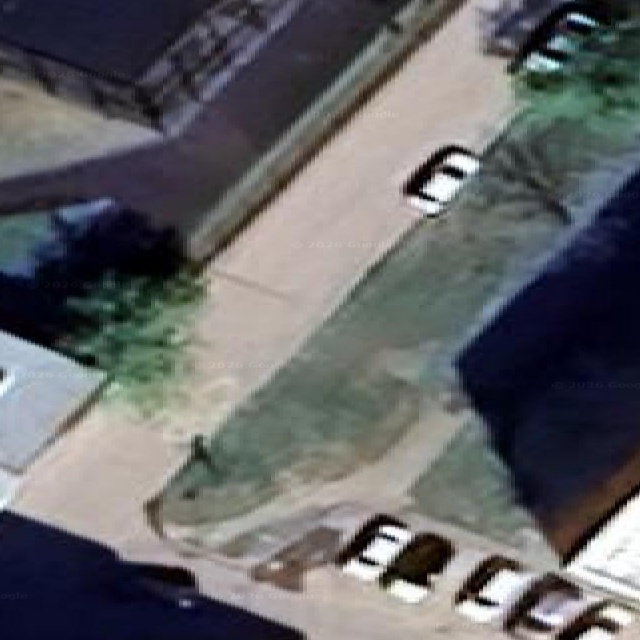car: (504, 573, 597, 639), (513, 4, 600, 74), (453, 555, 537, 622), (403, 145, 479, 216), (380, 532, 453, 603), (335, 515, 412, 580), (556, 600, 635, 639)
